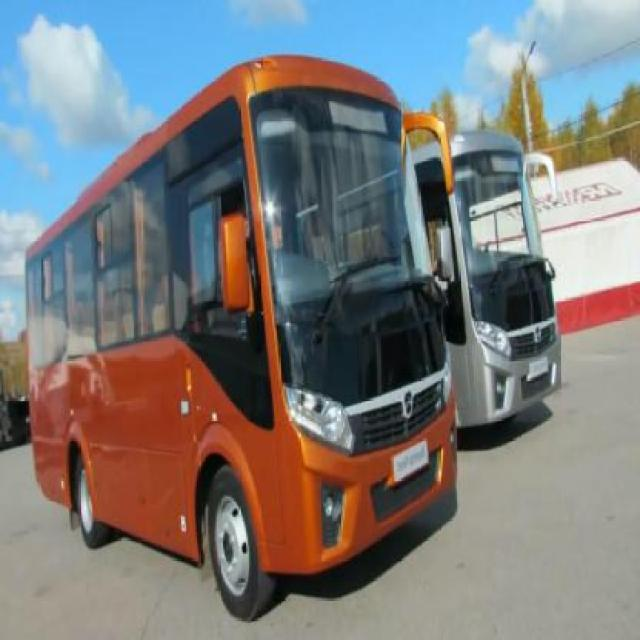bus: (30, 54, 458, 622), (469, 127, 563, 423)
